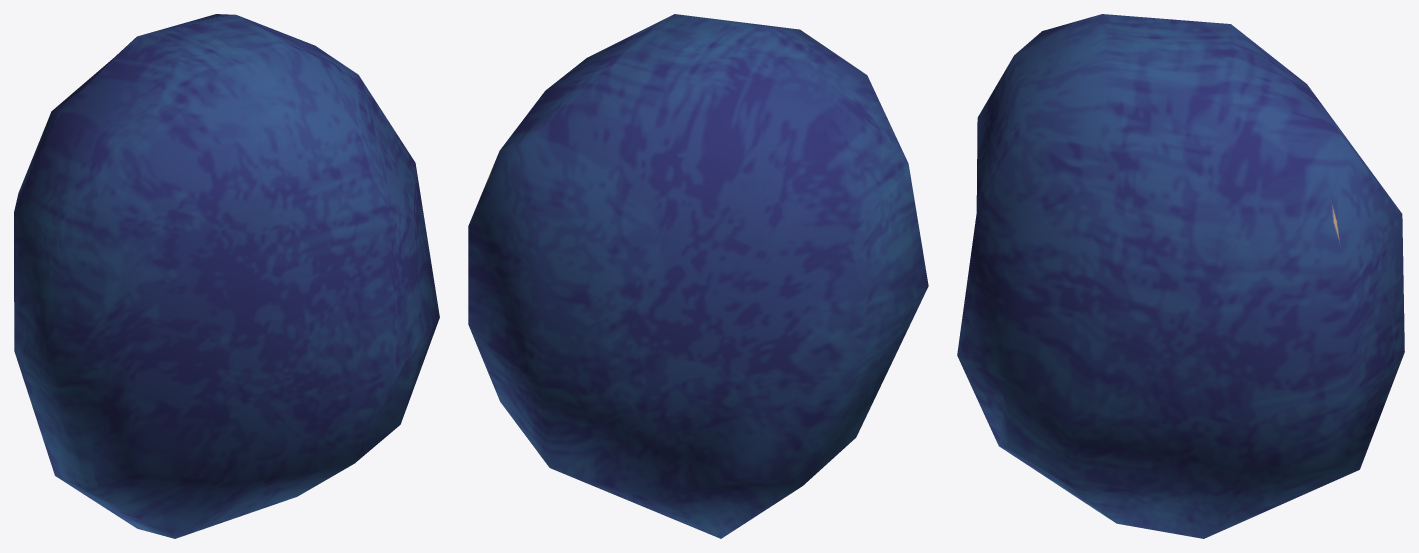
File: roca7.FBX
The picture shows the model from 3 angles, left to right: view 1: azimuth 30°, elevation 25°; view 2: azimuth 150°, elevation 25°; view 3: azimuth 270°, elevation 25°; orthographic projection. The views are drawn at different scales.
Visible parts, largest first — view 1: Roca7; view 2: Roca7; view 3: Roca7.
Part boxes in pixels (x1,y1,x2,y2): Roca7: (14,14,439,538); Roca7: (468,14,928,538); Roca7: (957,14,1404,538).
Bounding box in the file's own units: 105 × 106 × 131.
